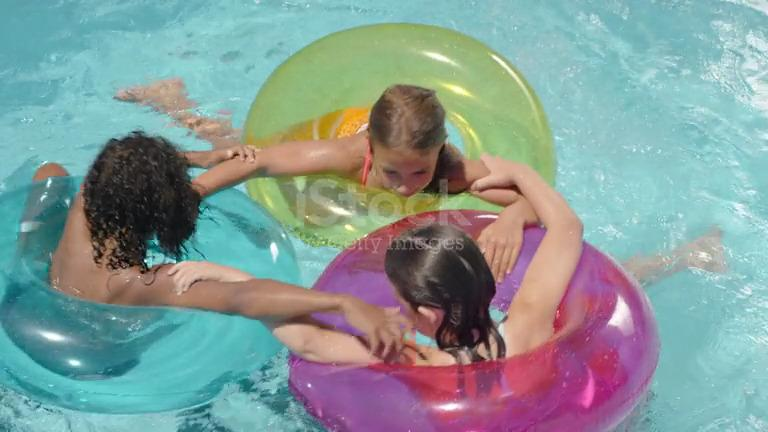Swimming: (251, 9, 706, 432), (3, 81, 244, 432)
